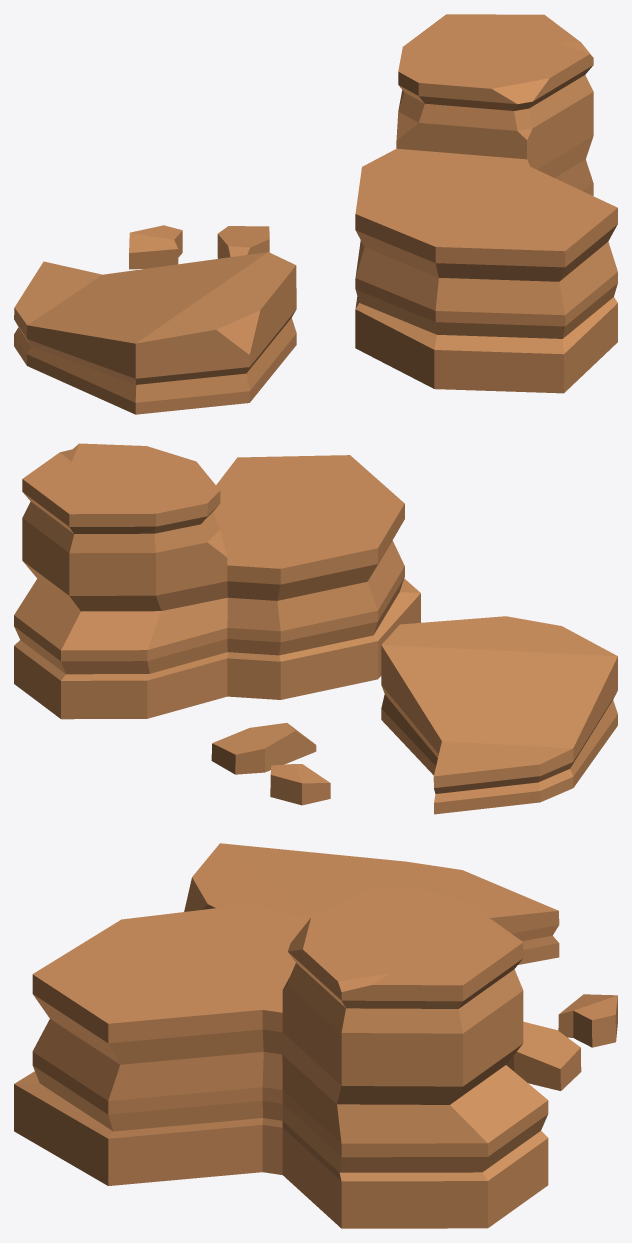
File: SandRocks_M6_LOD1.fbx
The picture shows the model from 3 angles, top to bottom: view 1: azimuth 30°, elevation 25°; view 2: azimuth 150°, elevation 25°; view 3: azimuth 270°, elevation 25°; orthographic projection. The views are drawn at different scales.
Parts seen in each view (by area): view 1: 29; view 2: 29; view 3: 29.
Part boxes in pixels (bbox=[...]): 29: bbox=[14, 14, 617, 414]; 29: bbox=[14, 443, 617, 814]; 29: bbox=[14, 843, 617, 1228].
Bounding box in the file's own units: 82.42 × 29.41 × 65.98.
